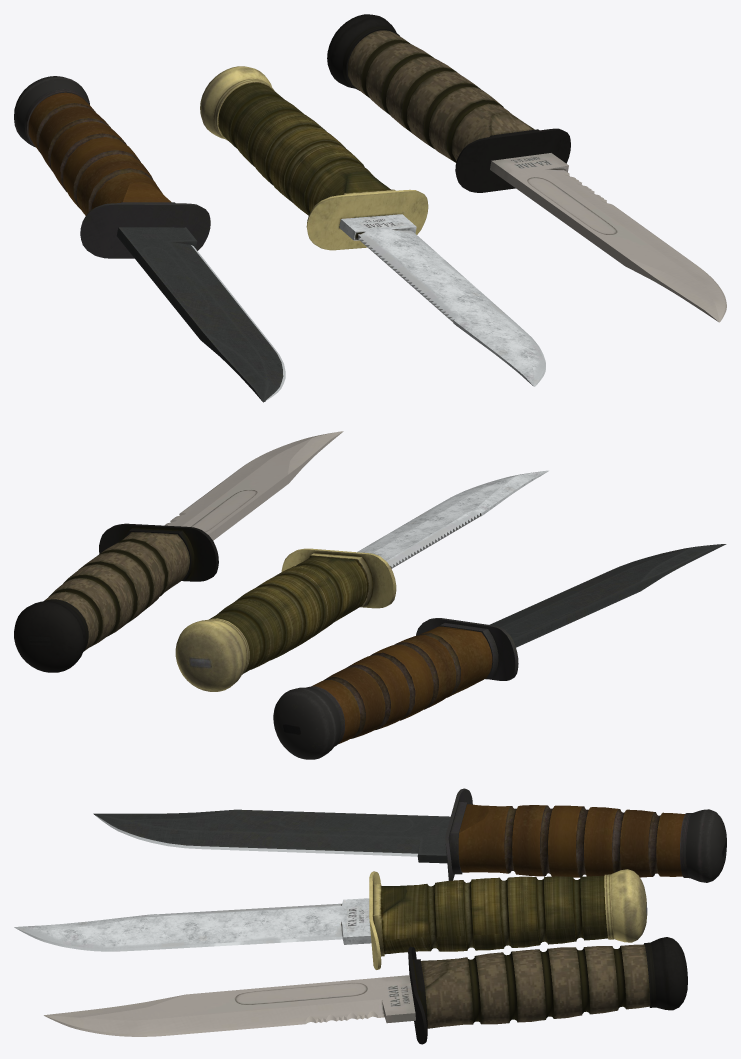
Rendered from kabar.glb.
The picture shows the model from 3 angles, top to bottom: view 1: azimuth 30°, elevation 25°; view 2: azimuth 150°, elevation 25°; view 3: azimuth 270°, elevation 25°; orthographic projection. The views are drawn at different scales.
Visible parts, largest first — view 1: Object_3, Object_4, Object_2; view 2: Object_2, Object_3, Object_4; view 3: Object_2, Object_3, Object_4.
Boxes of the visible parts, x1,y1,x2,y2 form: Object_3: (327,14,726,322); Object_4: (200,66,545,386); Object_2: (14,76,285,402); Object_2: (273,544,726,759); Object_3: (14,431,343,672); Object_4: (175,470,548,691); Object_2: (93,788,726,882); Object_3: (44,937,687,1044); Object_4: (14,869,647,969).
Size of the model in its own units: 7.69 by 1.29 by 10.47.
3 materials, 3 textured.
